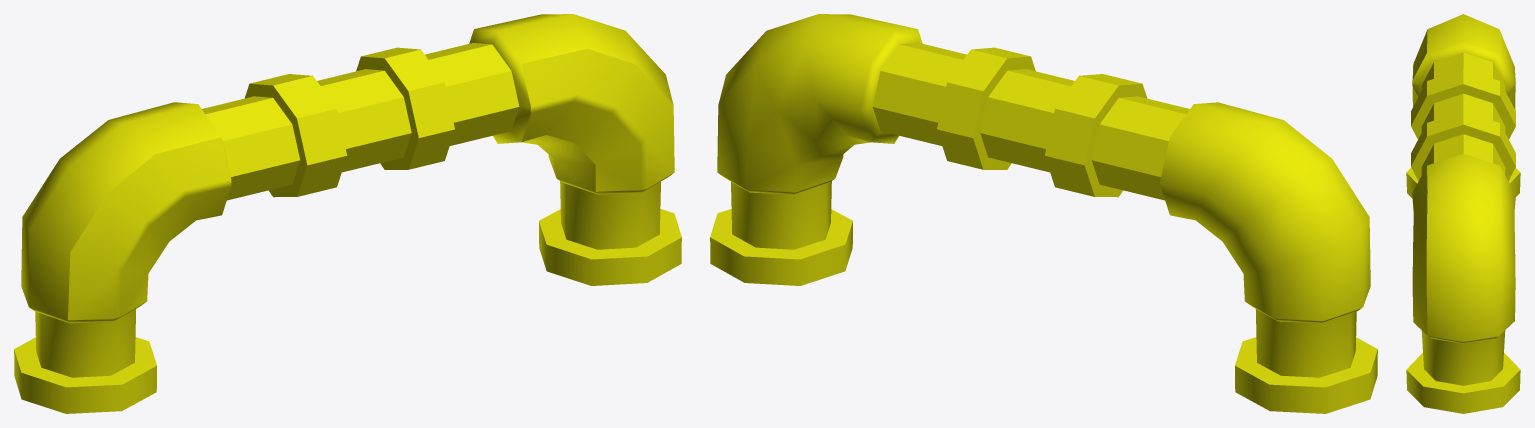
3 views of the same model, side by side, from view 1: azimuth 30°, elevation 25°; view 2: azimuth 150°, elevation 25°; view 3: azimuth 270°, elevation 25° (orthographic). The views are drawn at different scales.
Visible parts, largest first — view 1: decor2; view 2: decor2; view 3: decor2.
Boxes of the visible parts, x1,y1,x2,y2 form: decor2: [14, 14, 681, 413]; decor2: [710, 14, 1377, 413]; decor2: [1406, 14, 1520, 413].
Bounding box in the file's own units: 6.63 × 2.45 × 1.31.
Materials: 1 (1 with a texture image).
